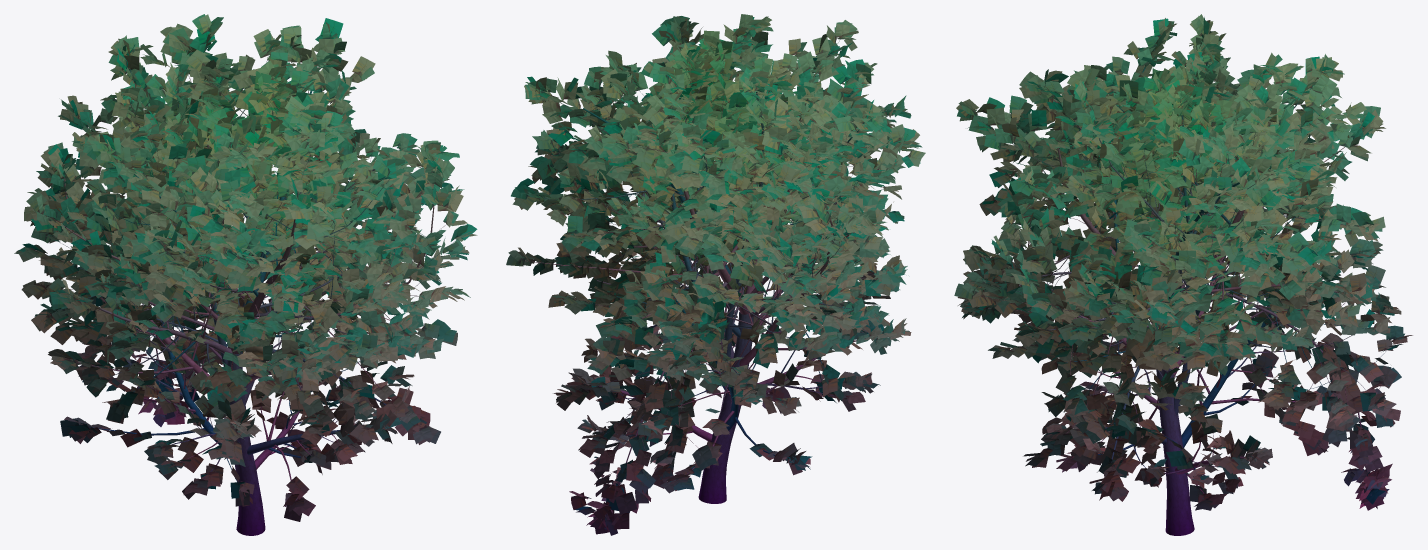
Rendered from asset.glb.
The picture shows the model from 3 angles, left to right: view 1: azimuth 30°, elevation 25°; view 2: azimuth 150°, elevation 25°; view 3: azimuth 270°, elevation 25°; orthographic projection. The views are drawn at different scales.
Visible parts, largest first — view 1: pinyon_pine_LOD0; view 2: pinyon_pine_LOD0; view 3: pinyon_pine_LOD0.
Part boxes in pixels (x1=…): pinyon_pine_LOD0: x1=14, y1=14, x2=477, y2=535; pinyon_pine_LOD0: x1=506, y1=14, x2=925, y2=535; pinyon_pine_LOD0: x1=954, y1=14, x2=1412, y2=535.
Size of the model in its own units: 9.01 by 10.52 by 9.18.
Materials: 2 (2 with a texture image).
